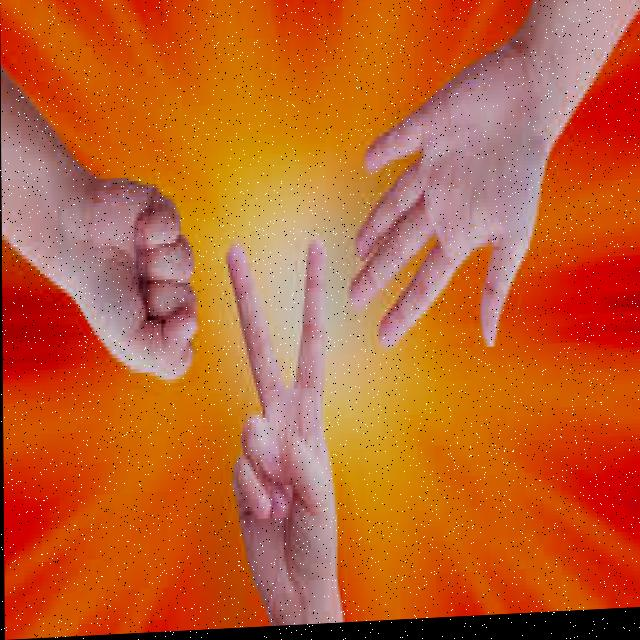paper: (343, 0, 577, 386)
rock: (59, 133, 199, 403)
scirssors: (209, 234, 342, 632)
